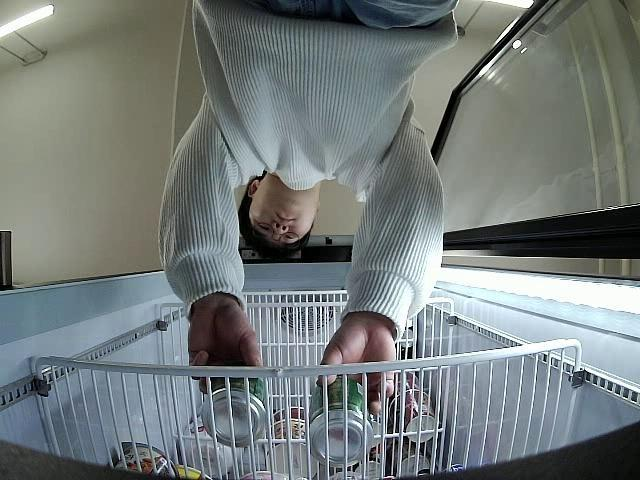12_chilsungCider: (309, 372, 374, 469), (200, 363, 269, 444)
